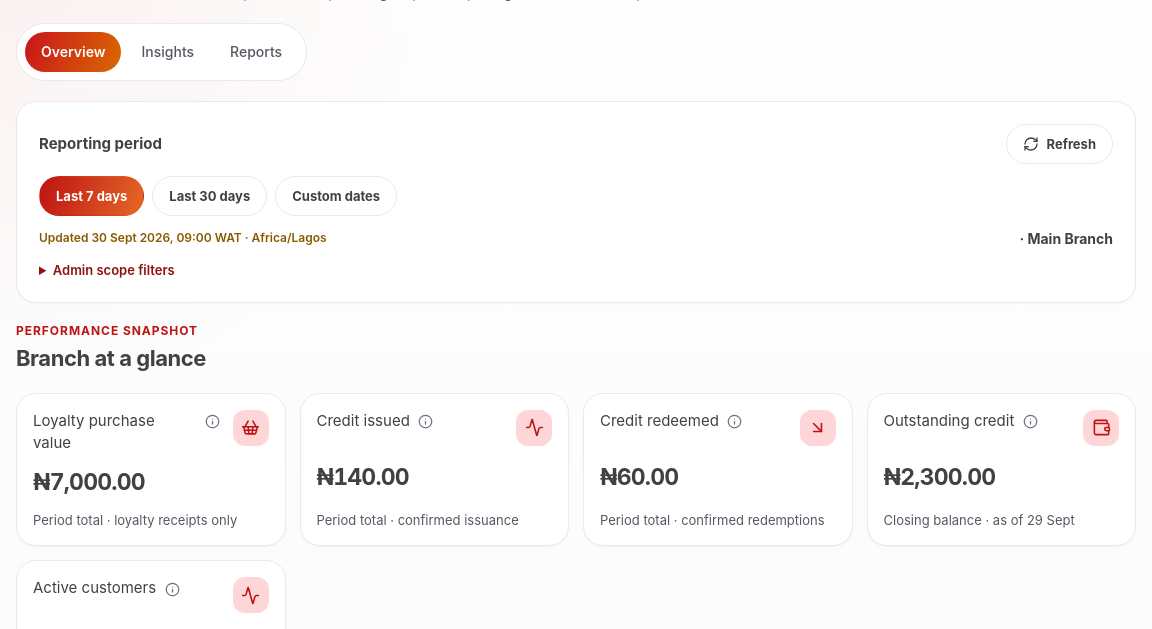
Test: SupervisorOperationalReports › queues tenant-wide Admin materialization and reloads reports when it completes
Click the button with aria-label "Refresh dashboard data": coordinates (1059, 144) [1006, 124, 1113, 164]
(page scrolled)
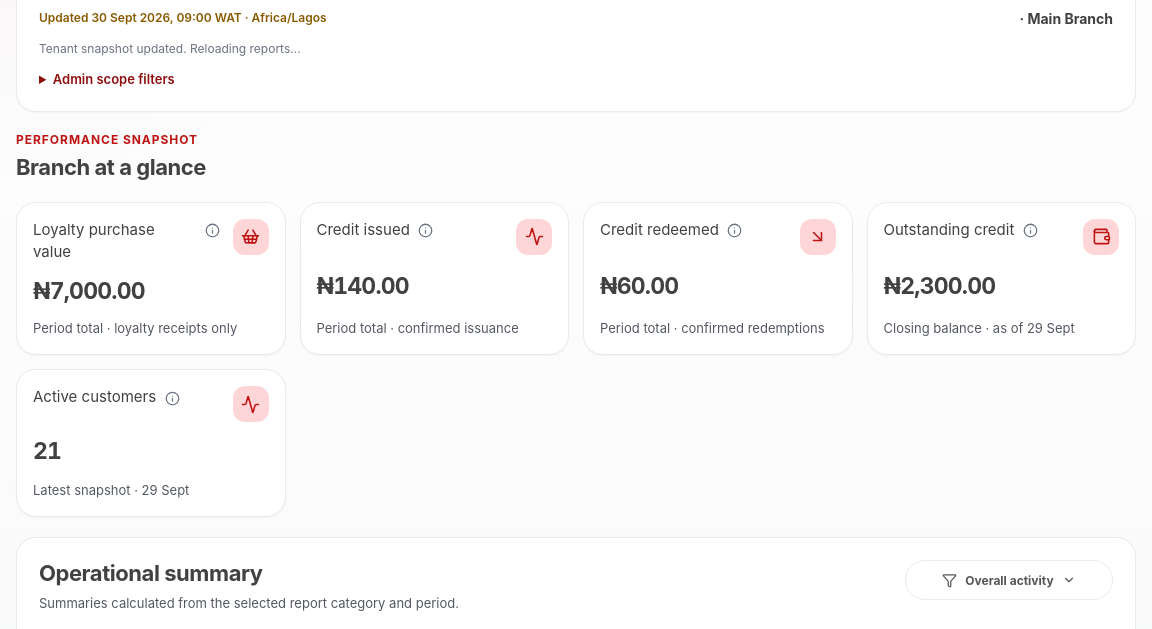
Expected: the text "Tenant snapshot updated. Reloading reports…" is shown, [39, 41, 301, 56]
